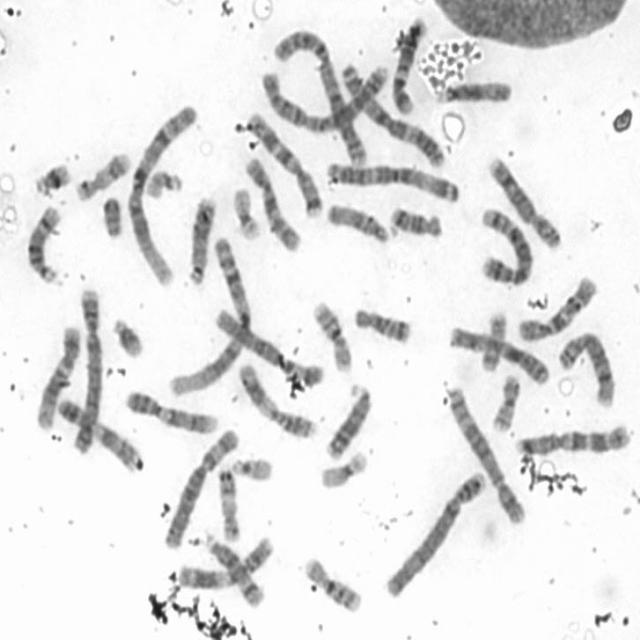A1: (167, 233, 256, 398), (122, 100, 198, 288)
A2: (269, 31, 370, 170), (257, 59, 392, 134)
A3: (336, 60, 447, 169), (322, 157, 461, 205)
B4: (381, 464, 488, 602), (69, 284, 104, 456)
B5: (444, 387, 526, 527), (476, 203, 534, 287)
C10: (514, 272, 600, 344), (242, 154, 301, 252)
C11: (236, 360, 318, 441), (174, 532, 275, 591)
C12: (32, 320, 82, 430), (388, 14, 428, 118)
C6: (160, 424, 240, 551), (211, 304, 325, 387)
C7: (243, 108, 324, 218), (511, 420, 632, 457)
C8: (484, 152, 563, 252), (555, 327, 616, 409)
C9: (53, 394, 141, 474), (122, 387, 219, 435)
D13: (322, 379, 374, 462), (184, 192, 217, 286)
D14: (201, 530, 265, 608), (23, 202, 62, 287)
D15: (323, 200, 390, 244), (430, 76, 514, 106)
E16: (301, 554, 363, 616), (309, 297, 354, 373)
E17: (72, 147, 133, 203), (215, 464, 241, 544)
E18: (350, 304, 414, 346), (387, 203, 444, 239)
F19: (316, 446, 371, 492), (230, 184, 262, 242)
F20: (478, 311, 510, 377), (488, 370, 522, 432)
G21: (109, 313, 146, 360), (32, 159, 74, 198)
G22: (144, 167, 184, 202), (228, 453, 274, 483)
X: (445, 322, 550, 386)
Y: (100, 192, 124, 240)
